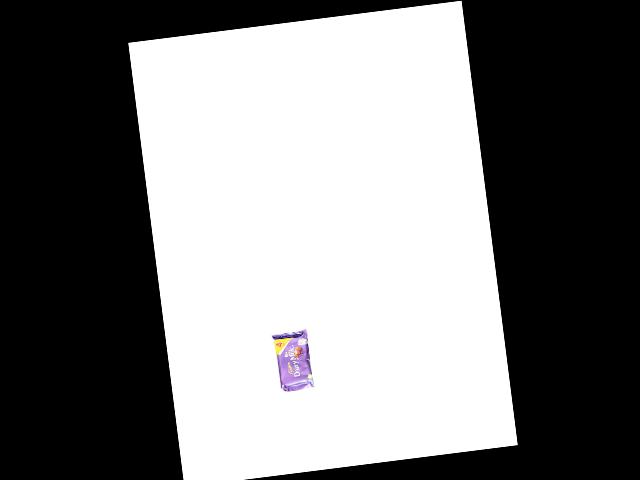chocolate: (271, 321, 319, 394)
